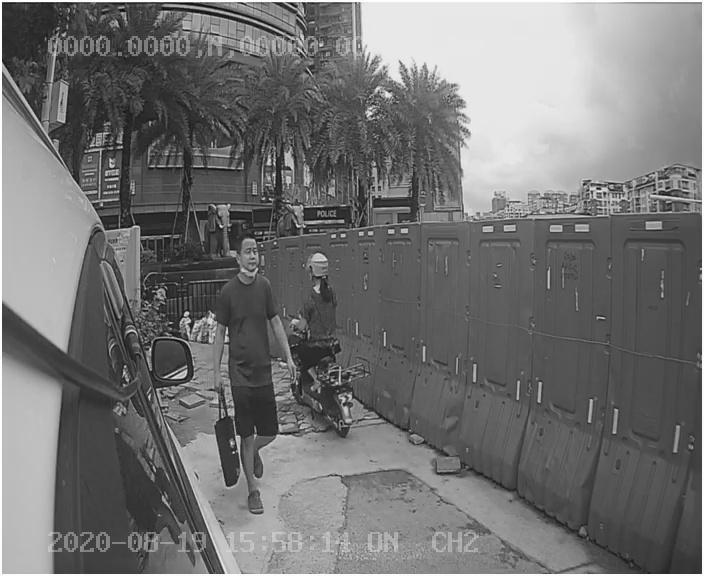person: (200, 234, 302, 521)
